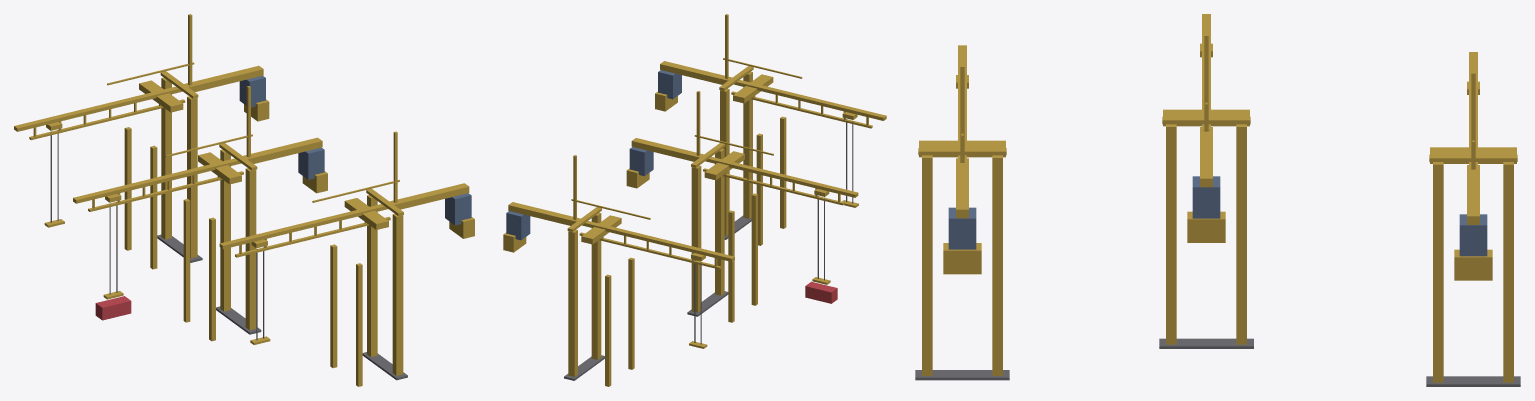
File: ora_cranes.glb
3 renders of one model, left to right at view 1: azimuth 30°, elevation 25°; view 2: azimuth 150°, elevation 25°; view 3: azimuth 270°, elevation 25°, orthographic. The views are drawn at different scales.
Visible parts, largest first — view 1: ora_cranes_lod0; view 2: ora_cranes_lod0; view 3: ora_cranes_lod0.
Part boxes in pixels (box(x1,y1,x2,y2)): ora_cranes_lod0: box(14, 14, 474, 386); ora_cranes_lod0: box(503, 14, 886, 386); ora_cranes_lod0: box(915, 14, 1520, 386).
Size of what is drawn, in the model's own units: 63.2 by 48.83 by 79.4.
